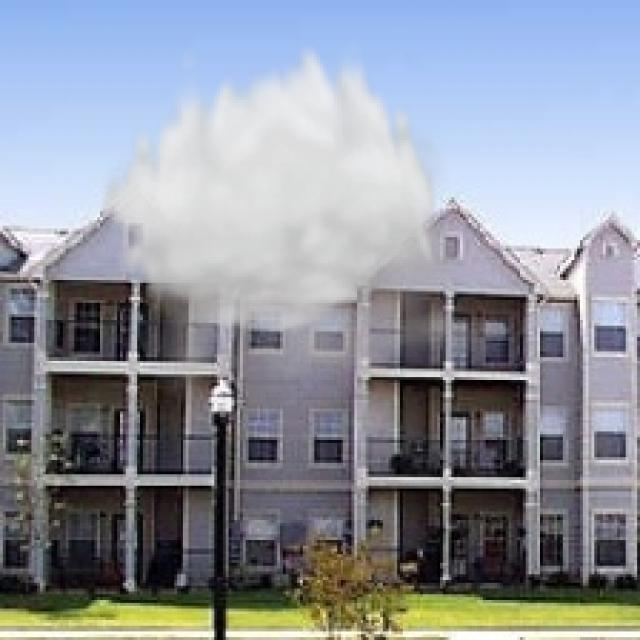smoke: (97, 37, 512, 406)
